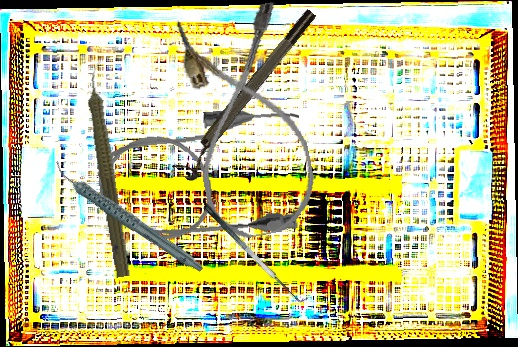Cannula: (172, 0, 323, 245), (93, 102, 311, 249)
Fixation Ring: (170, 6, 327, 184)
Handpiece: (51, 135, 206, 298), (78, 60, 140, 279)
Spatula Surgical: (201, 195, 311, 310)
